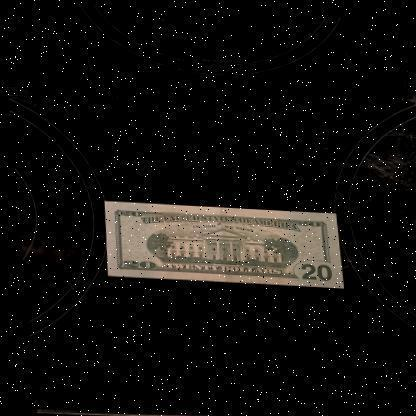dollar_back: (98, 200, 340, 286)
